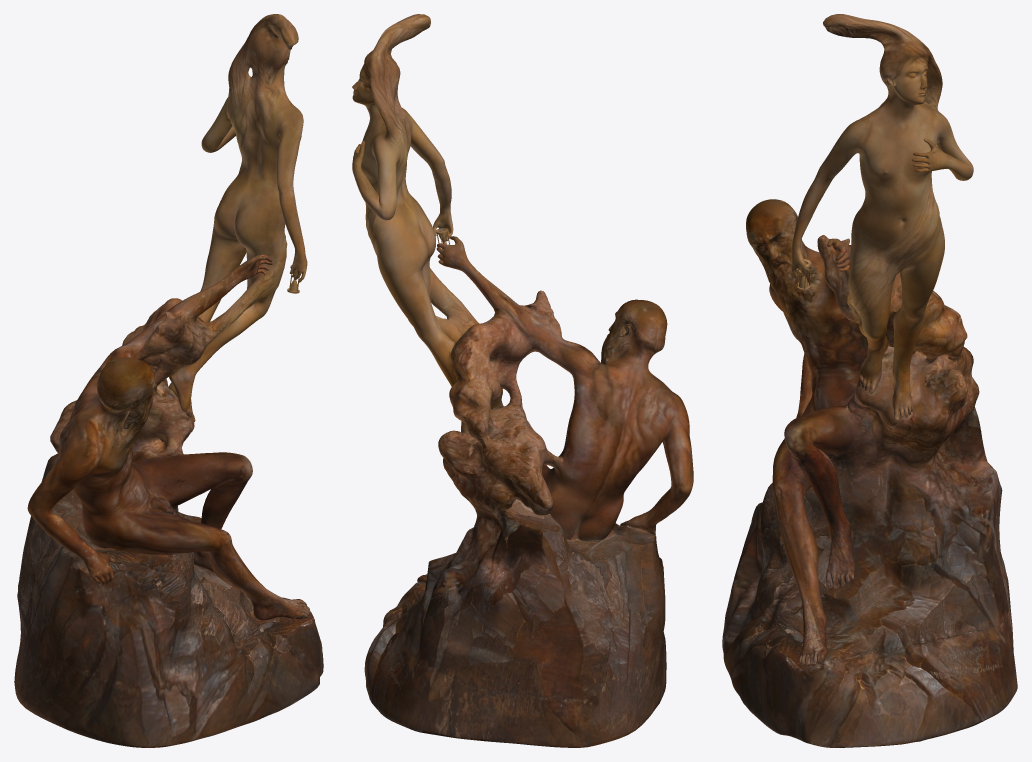
The model's file is nooruskaob.glb.
The picture shows the model from 3 angles, left to right: view 1: azimuth 30°, elevation 25°; view 2: azimuth 150°, elevation 25°; view 3: azimuth 270°, elevation 25°; orthographic projection. The views are drawn at different scales.
Parts seen in each view (by area): view 1: noorus; view 2: noorus; view 3: noorus.
Part boxes in pixels (x1=…): noorus: x1=14, y1=14, x2=323, y2=747; noorus: x1=352, y1=14, x2=693, y2=747; noorus: x1=722, y1=14, x2=1017, y2=747.
Size of the model in its own units: 0.9779 by 2 by 0.7438.
1 material, 1 textured.
